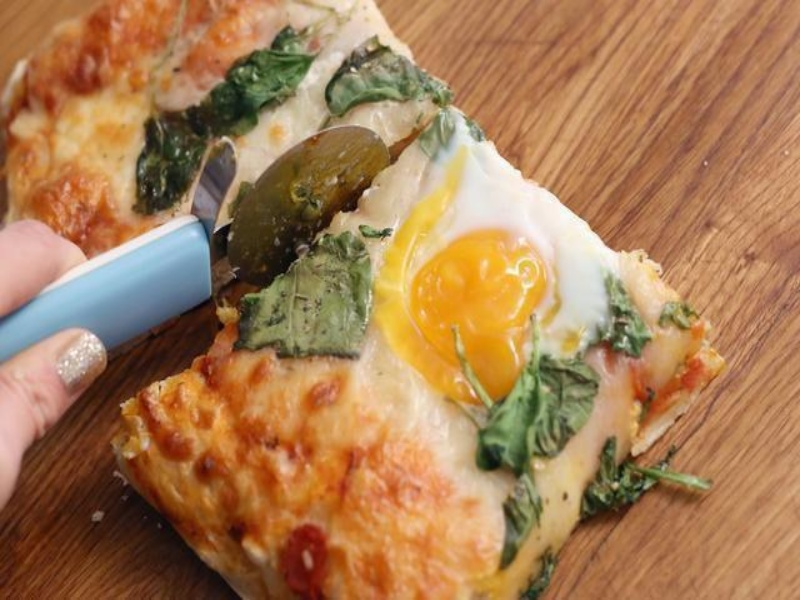oeuf: (394, 222, 559, 416)
